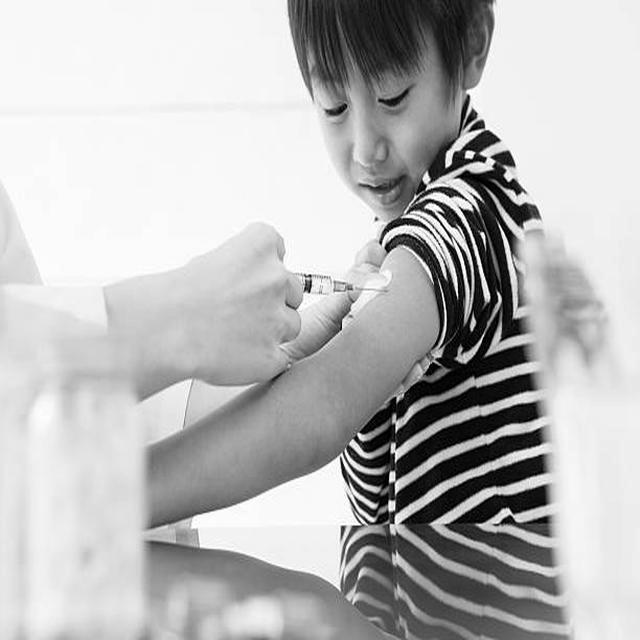Fear: (309, 23, 443, 218)
